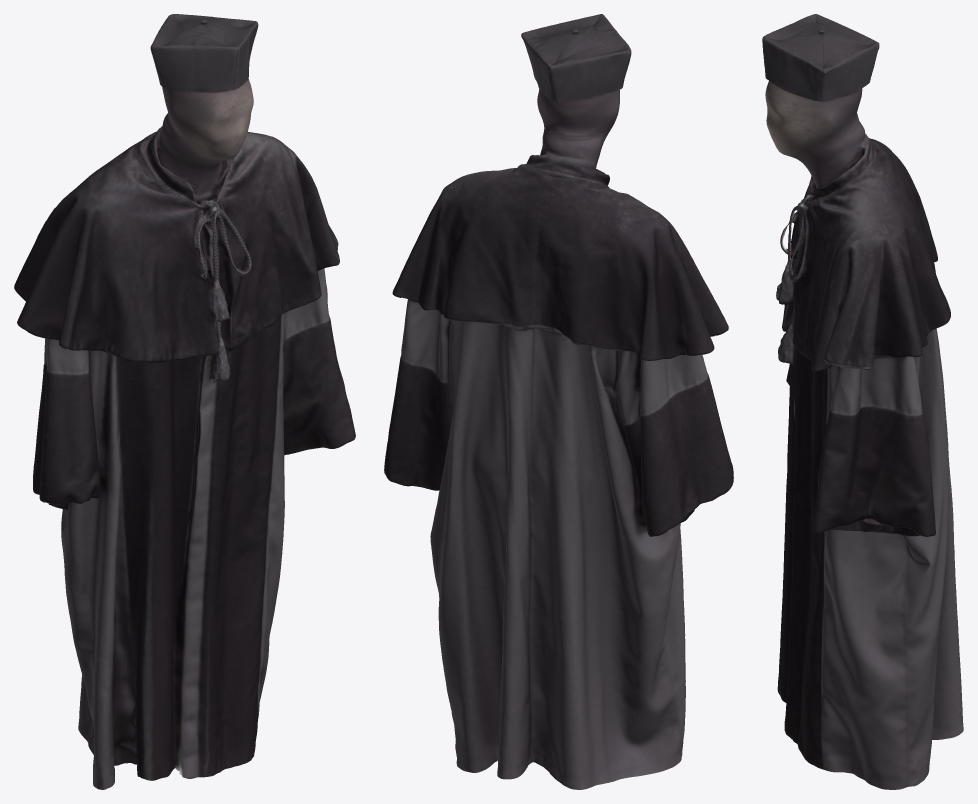
The picture shows the model from 3 angles, left to right: view 1: azimuth 30°, elevation 25°; view 2: azimuth 150°, elevation 25°; view 3: azimuth 270°, elevation 25°; orthographic projection. The views are drawn at different scales.
Visible parts, largest first — view 1: Object_5, Object_6, Object_4, Object_2; view 2: Object_4, Object_5, Object_6, Object_2; view 3: Object_5, Object_6, Object_4, Object_2.
Boxes of the visible parts, <box> form: Object_5: <box>18,78,355,717</box>; Object_6: <box>20,126,355,785</box>; Object_4: <box>14,158,339,789</box>; Object_2: <box>150,14,258,92</box>; Object_4: <box>420,224,733,789</box>; Object_5: <box>384,89,677,610</box>; Object_6: <box>384,126,729,778</box>; Object_2: <box>521,14,631,101</box>; Object_5: <box>765,81,948,739</box>; Object_6: <box>777,124,961,789</box>; Object_4: <box>777,194,963,767</box>; Object_2: <box>762,14,879,101</box>.
Size of the model in its own units: 0.7126 by 1.61 by 0.4052.
2 materials, 2 textured.
